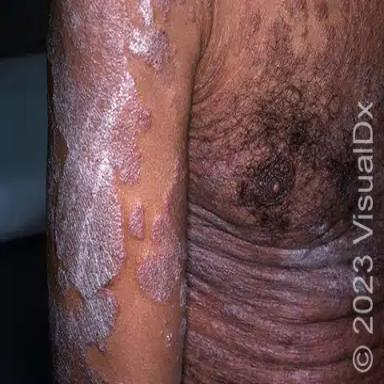Psoriasis: (47, 1, 170, 384), (137, 155, 186, 302), (128, 204, 145, 239), (179, 280, 187, 332), (156, 0, 170, 12), (166, 332, 173, 347)
